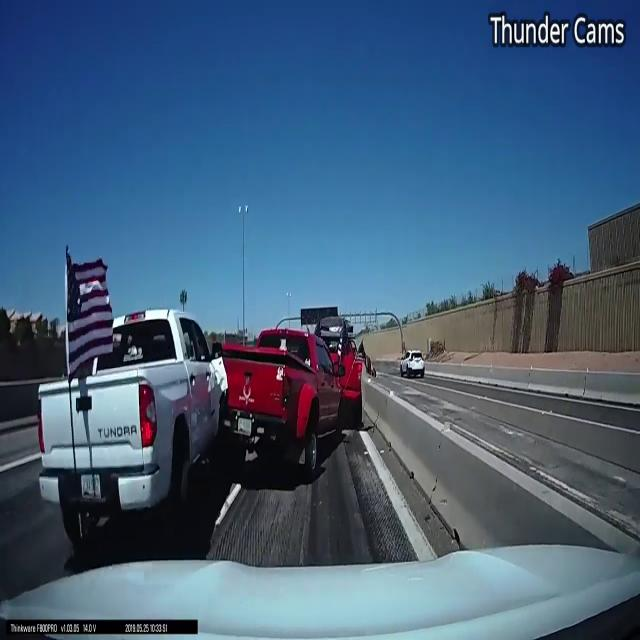accident: (110, 302, 312, 497)
